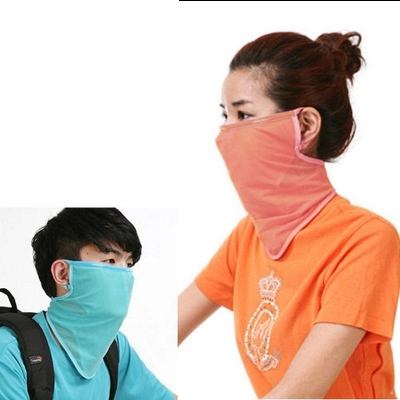face_mask: (216, 66, 294, 187), (67, 230, 133, 319)
